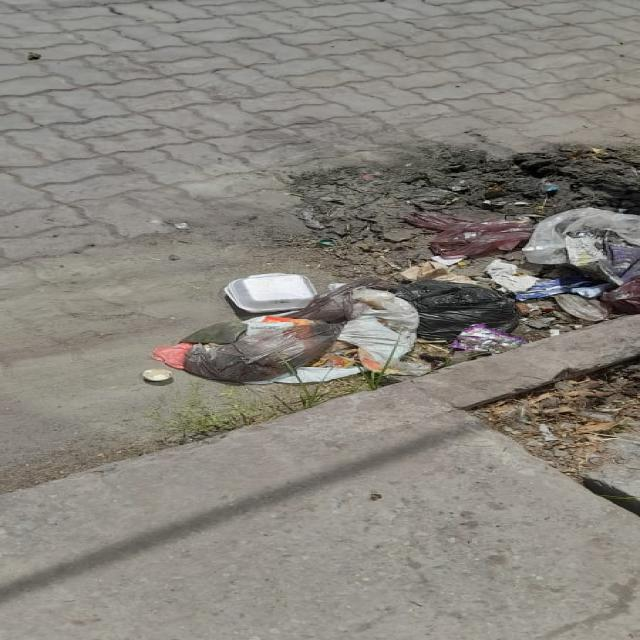plastic: (183, 320, 340, 383), (522, 208, 639, 285), (390, 280, 521, 342), (338, 289, 428, 374), (401, 212, 533, 259), (179, 320, 246, 344), (152, 343, 191, 370), (246, 316, 310, 325)
styrofoam: (223, 273, 316, 319)
